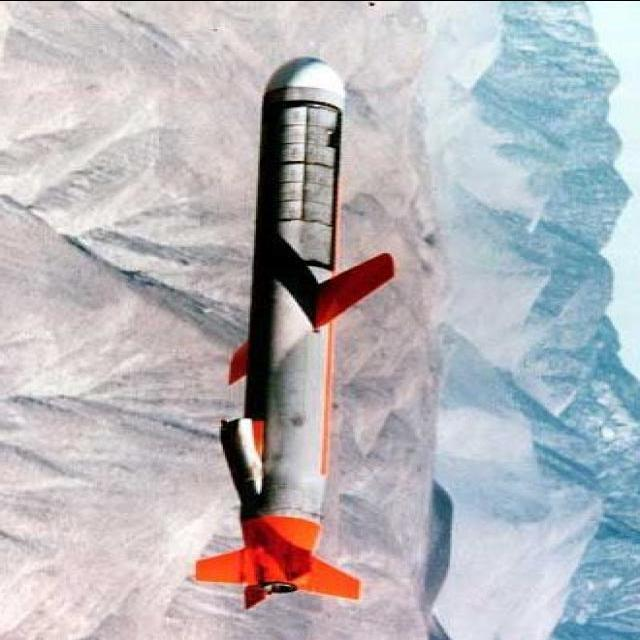Missile: (188, 42, 398, 610), (238, 52, 354, 568)
